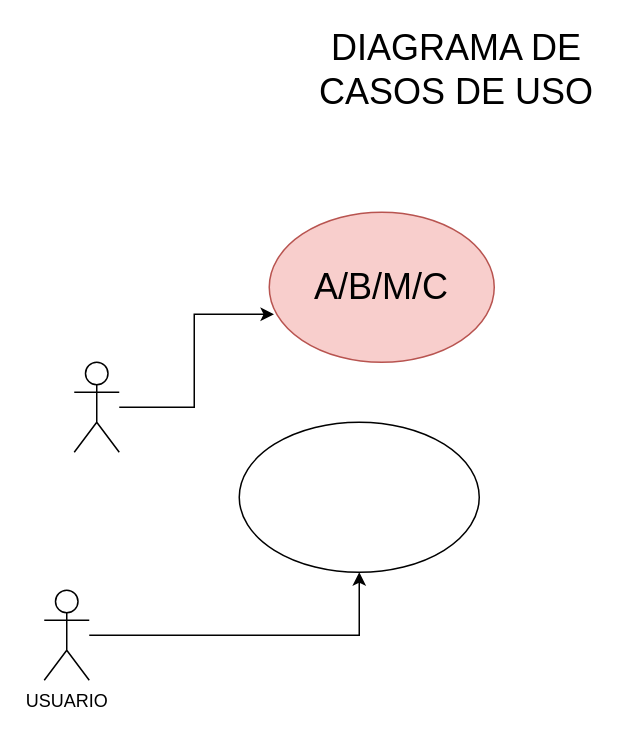
Some shapes in this 641 by 737 pixel diagram are drawn without their labels. The shapes that lost their labels are listed below. From the top down, each one's centre as x and y in pixels, then its label:
At [96,406]: "ADMIN".
At [358,496]: "BÚSQUEDAS".
